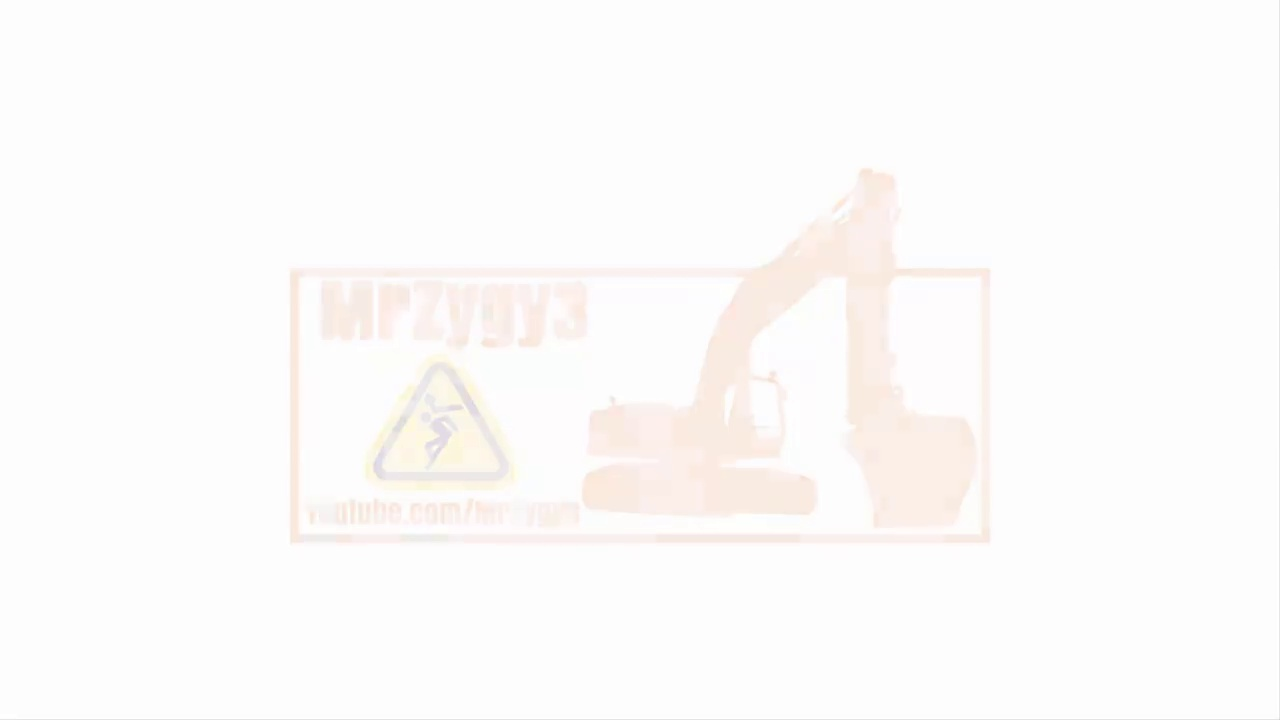excavator: (578, 162, 979, 534)
